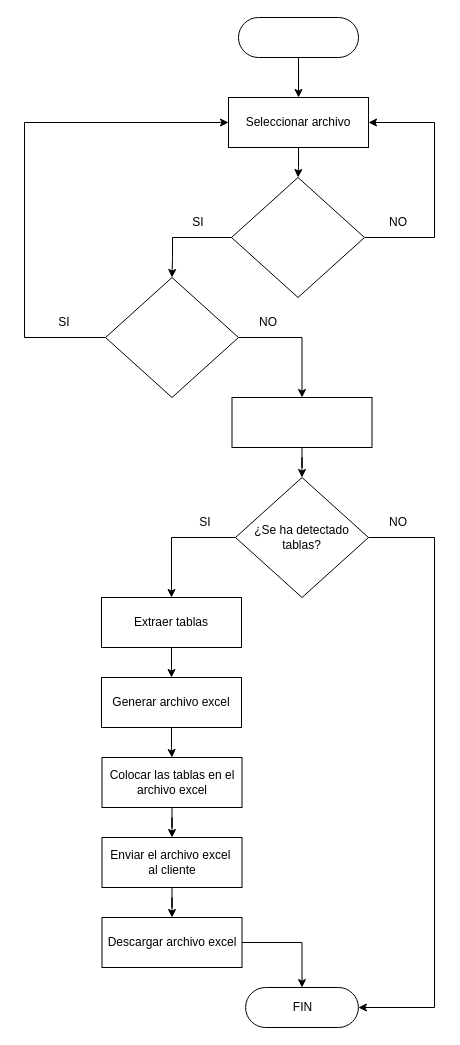
The diagram is 460 pixels wide and 1045 high, and some of its shapes have lost their labels. Each missing label, with the centre of its shape:
INICIO: (x=298, y=37)
Solicitar tablas: (x=301, y=422)
¿El archivo es un PDF?: (x=297, y=237)
¿El tamaño del archivo es mayor a 25 MB?: (x=171, y=337)
